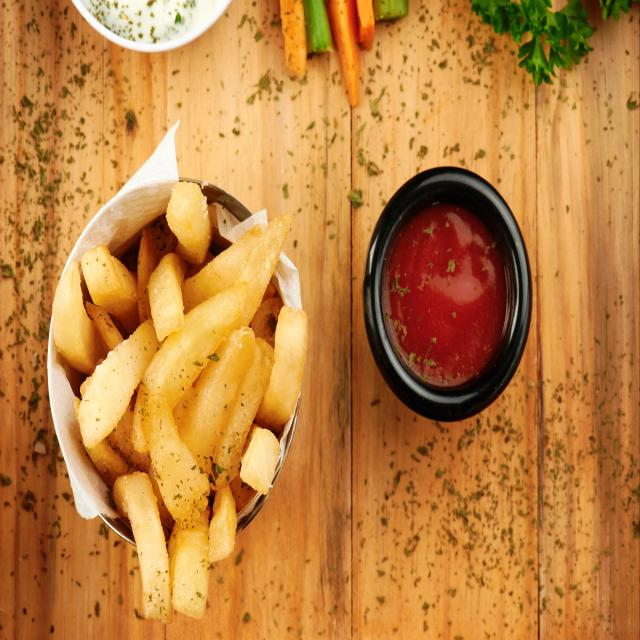french fries: (54, 180, 307, 616)
ketchup: (372, 192, 523, 400)
